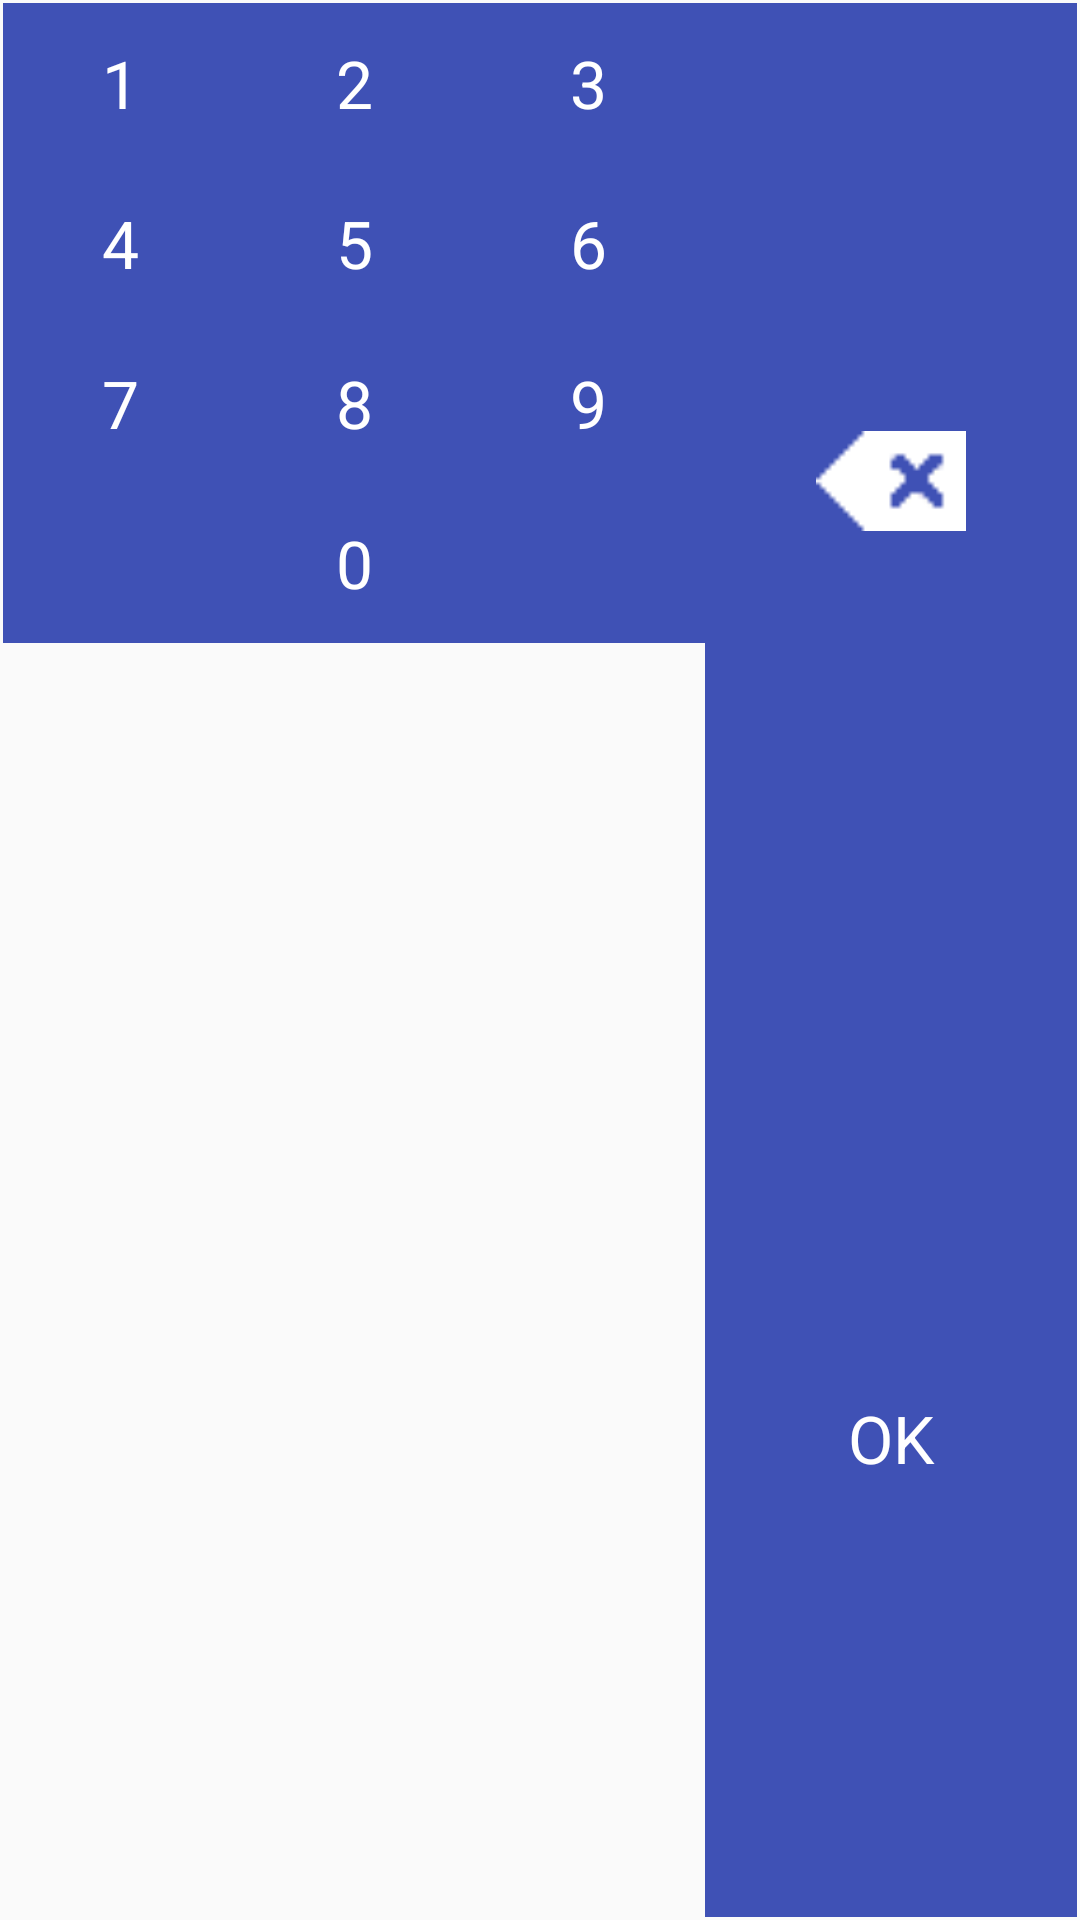

Locate icon controls on the screen. Image size 1080×1920, boxes as (x1, y1, x2, y2).
clear: (816, 431, 966, 531)
